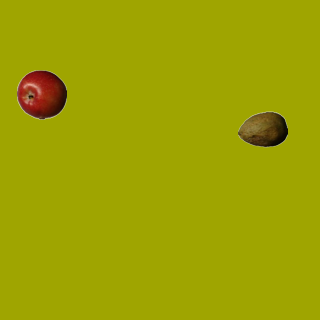Apple Braeburn: (16, 69, 66, 119)
Papaya: (237, 104, 287, 154)
